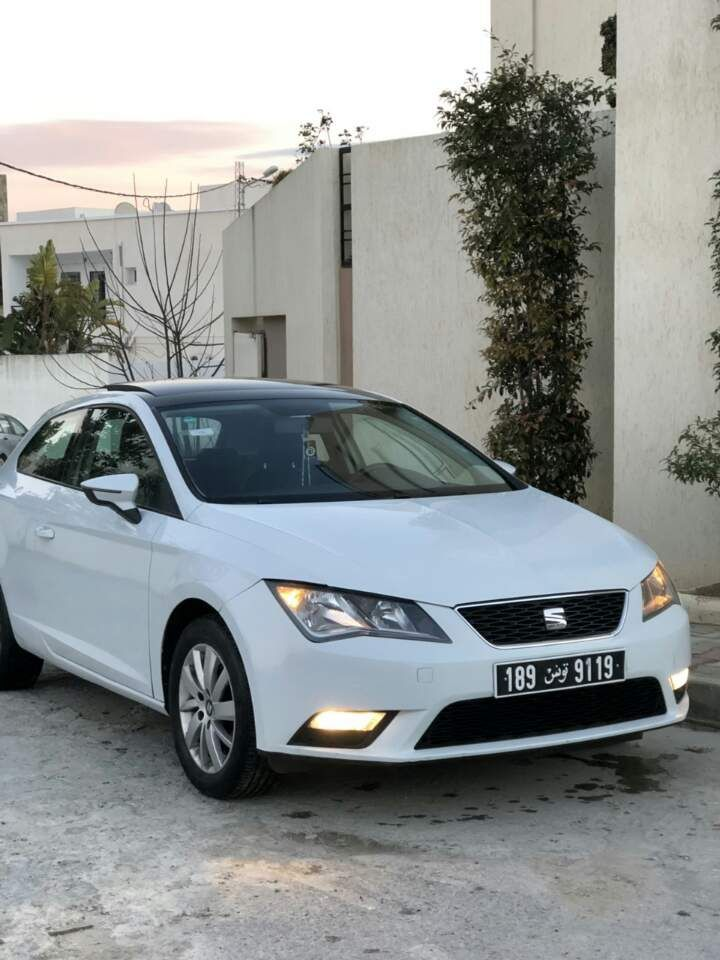LP: (494, 647, 628, 696)
